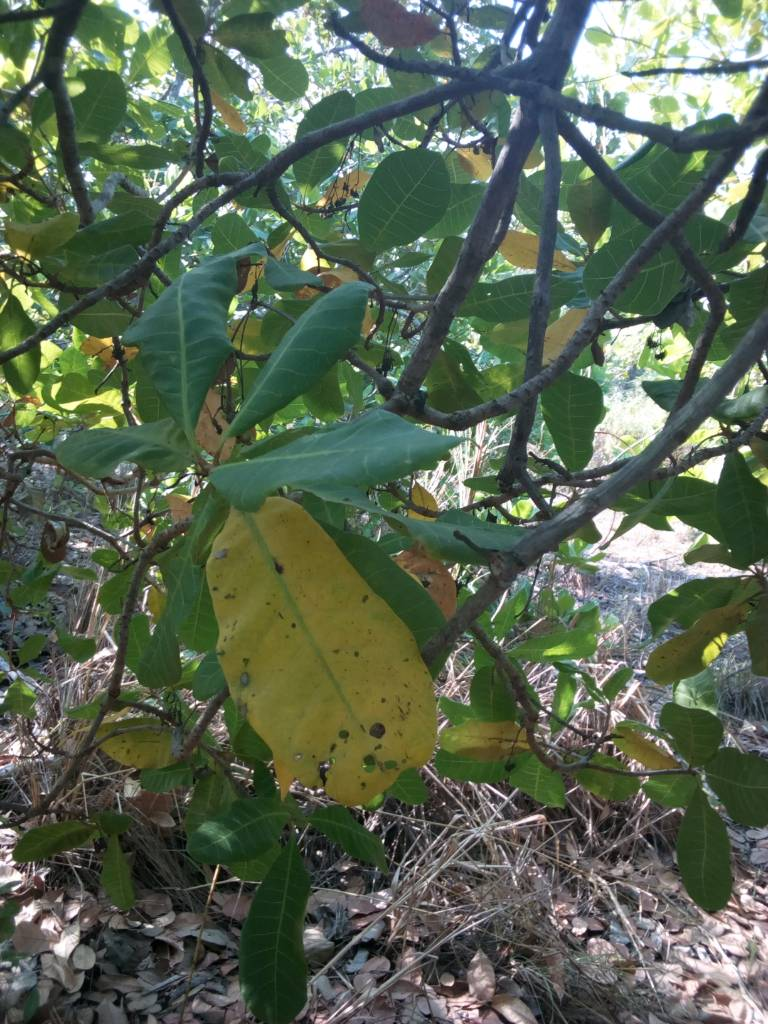Bactériose: (219, 511, 438, 805)
